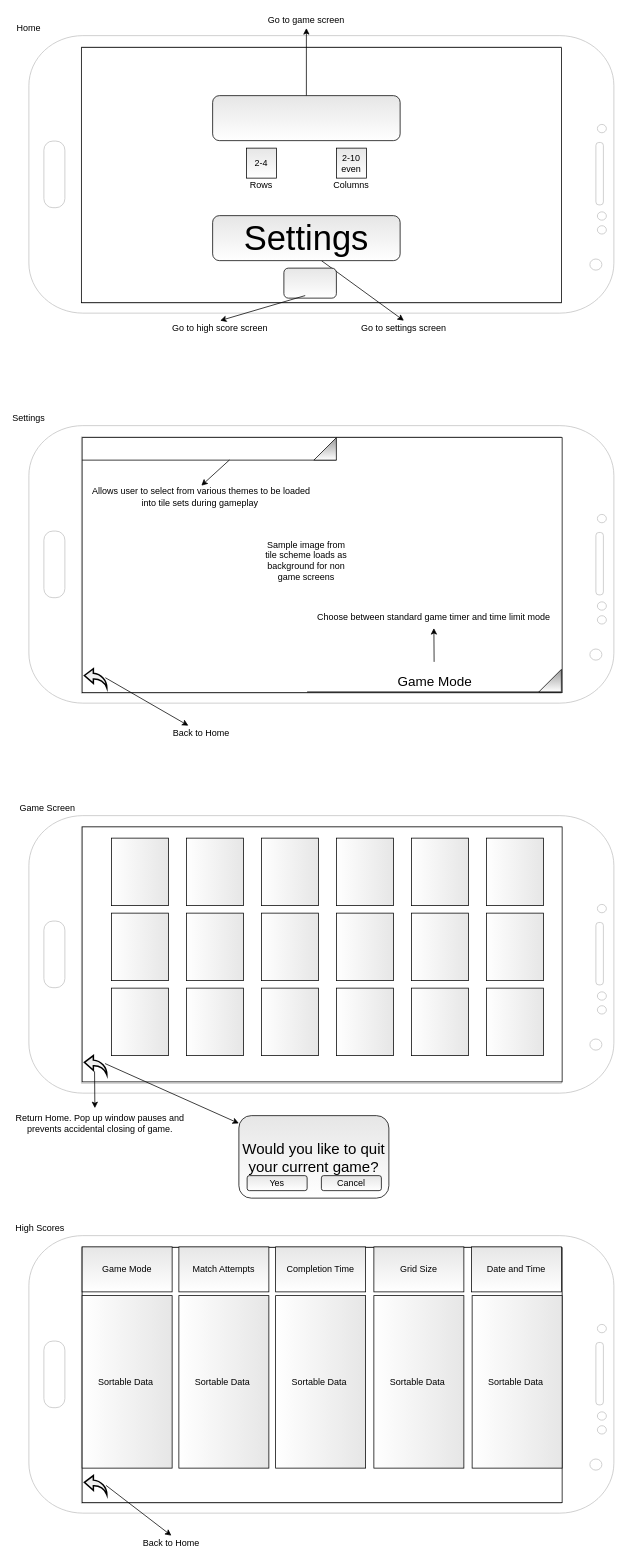
Some shapes in this 627 by 1563 pixel diagram are drawn without their labels. The shapes that lost their labels are listed below. From the top down, each one's centre as x and y in pixels, then its label:
the point at 306,118: Game Start
the point at 309,282: Hi Scores
the point at 208,448: Tile Scheme
